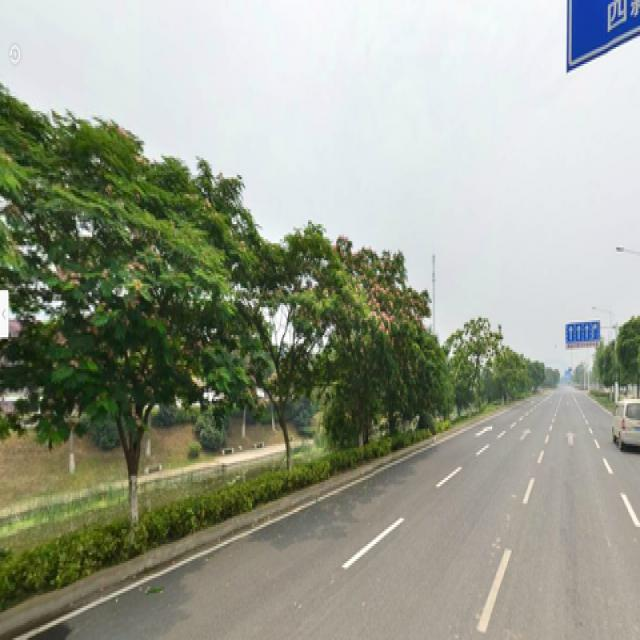albi: (19, 111, 202, 516), (223, 211, 348, 472)
